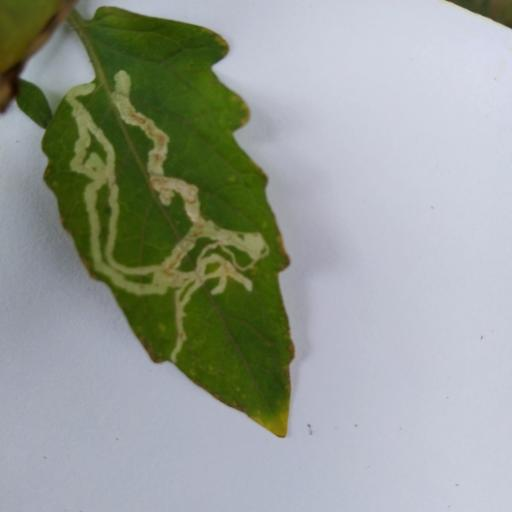disease_tomato: (41, 4, 297, 442)
